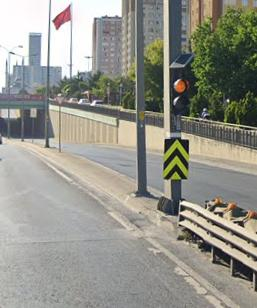yellowlight: (171, 61, 189, 118)
